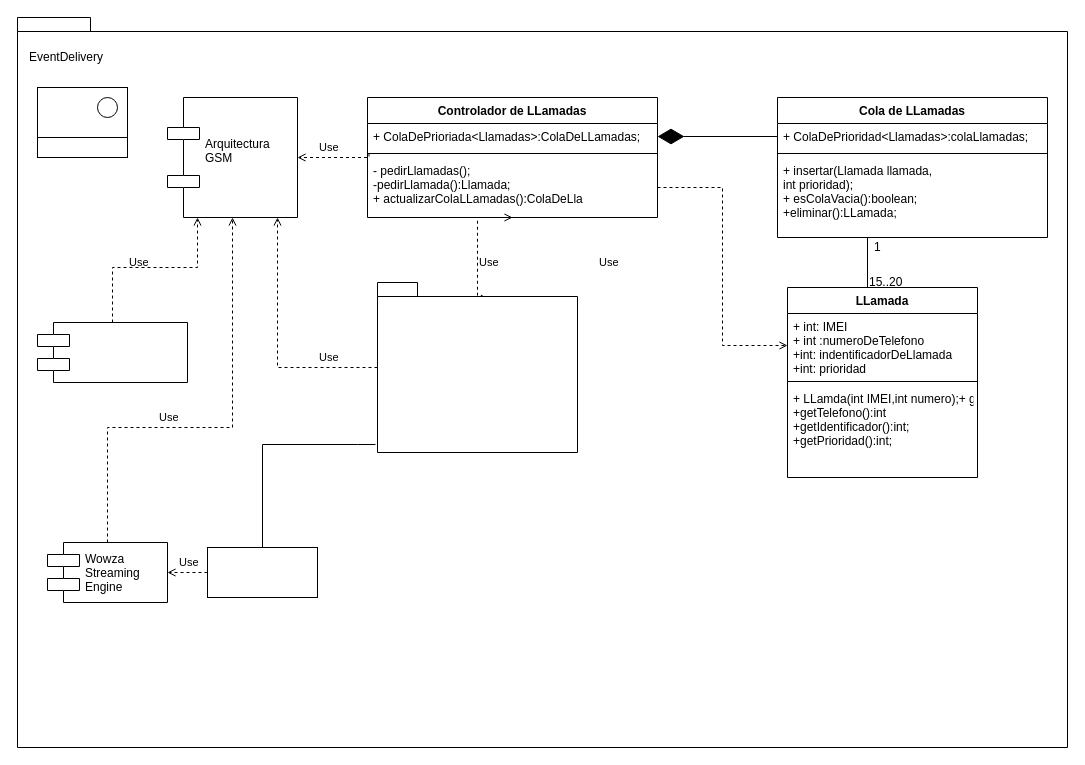
Some shapes in this 1085 by 765 pixel diagram are drawn without their labels. Each missing label, with the centre of its shape:
Aplicación: pixel 262 572
Gestión de llamadas: pixel 477 367
Security Camera EYE-02: pixel 112 352
